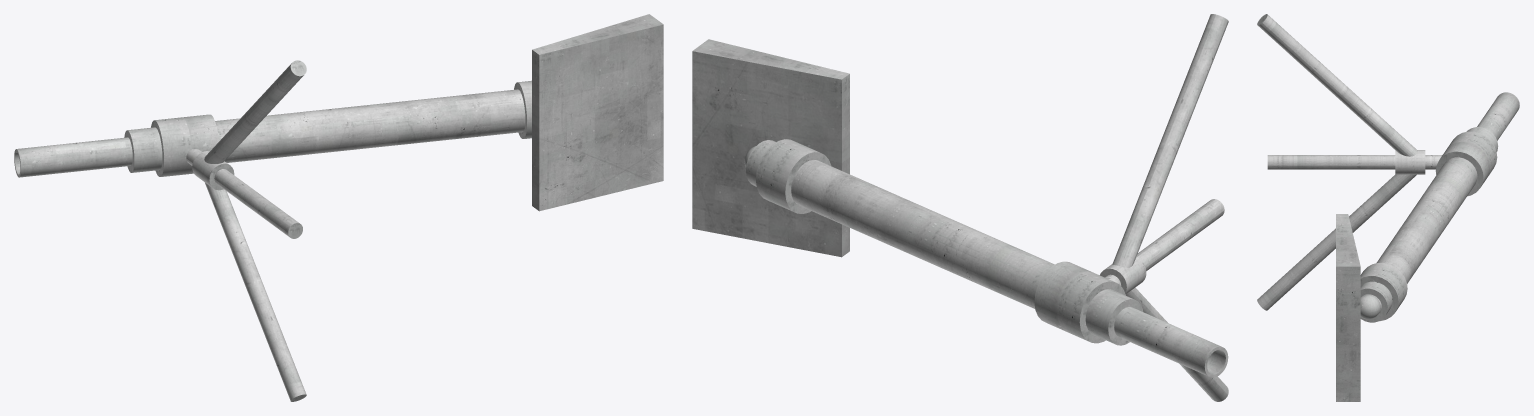
File: MortarMin.dae
3 views of the same model, side by side, from view 1: azimuth 30°, elevation 25°; view 2: azimuth 150°, elevation 25°; view 3: azimuth 270°, elevation 25° (orthographic). The views are drawn at different scales.
Visible parts, largest first — view 1: group_1, group_2 (×2), group_7, group_4, group_8, group_6, group_9, group_3; view 2: group_1, group_2 (×2), group_8, group_4, group_3, group_6, group_7, group_9; view 3: group_2 (×2), group_1, group_8, group_7, group_6, group_4, group_3, group_9, group_12.
Boxes of the visible parts, x1=… form: group_1: x1=532, y1=14, x2=663, y2=211; group_2 (×2): x1=14, y1=89, x2=525, y2=177; group_7: x1=205, y1=182, x2=306, y2=401; group_4: x1=151, y1=114, x2=218, y2=176; group_8: x1=204, y1=60, x2=306, y2=163; group_6: x1=186, y1=149, x2=302, y2=238; group_9: x1=192, y1=151, x2=234, y2=190; group_3: x1=514, y1=80, x2=531, y2=138; group_1: x1=692, y1=39, x2=849, y2=257; group_2 (×2): x1=746, y1=140, x2=1228, y2=377; group_8: x1=1112, y1=14, x2=1228, y2=267; group_4: x1=1034, y1=261, x2=1125, y2=343; group_3: x1=756, y1=139, x2=831, y2=213; group_6: x1=1105, y1=199, x2=1224, y2=285; group_7: x1=1126, y1=287, x2=1228, y2=401; group_9: x1=1100, y1=256, x2=1146, y2=294; group_2 (×2): x1=1360, y1=92, x2=1519, y2=322; group_1: x1=1336, y1=214, x2=1360, y2=401; group_8: x1=1257, y1=14, x2=1417, y2=156; group_7: x1=1257, y1=174, x2=1416, y2=310; group_6: x1=1267, y1=155, x2=1442, y2=169; group_4: x1=1435, y1=131, x2=1497, y2=196; group_3: x1=1360, y1=263, x2=1407, y2=320; group_9: x1=1395, y1=150, x2=1425, y2=174; group_12: x1=1360, y1=294, x2=1380, y2=319.
Size of the model in its own units: 43.48 by 20.79 by 25.75.
Materials: 1 (1 with a texture image).
